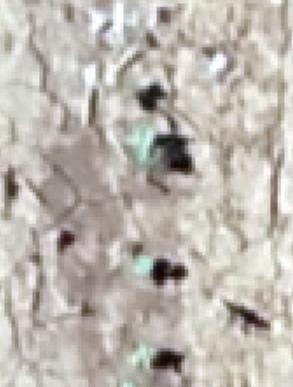cotton: (128, 128, 154, 160), (134, 346, 151, 368), (136, 255, 153, 275)
